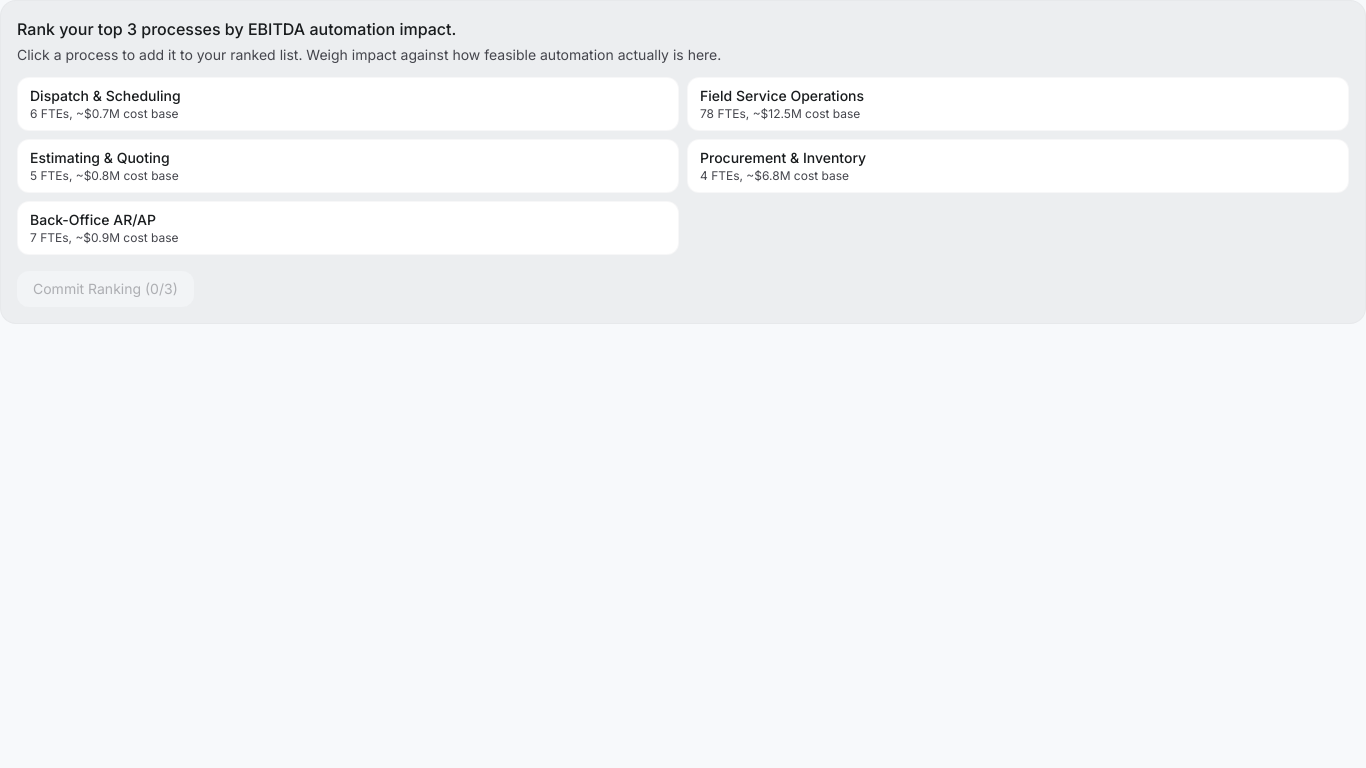
Test: RankingStage › explains missed picks via complexity notes and risks
Click the button "Estimating & Quoting 5 FTEs, ~$0.8M cost base": (100, 158) [17,139,679,193]
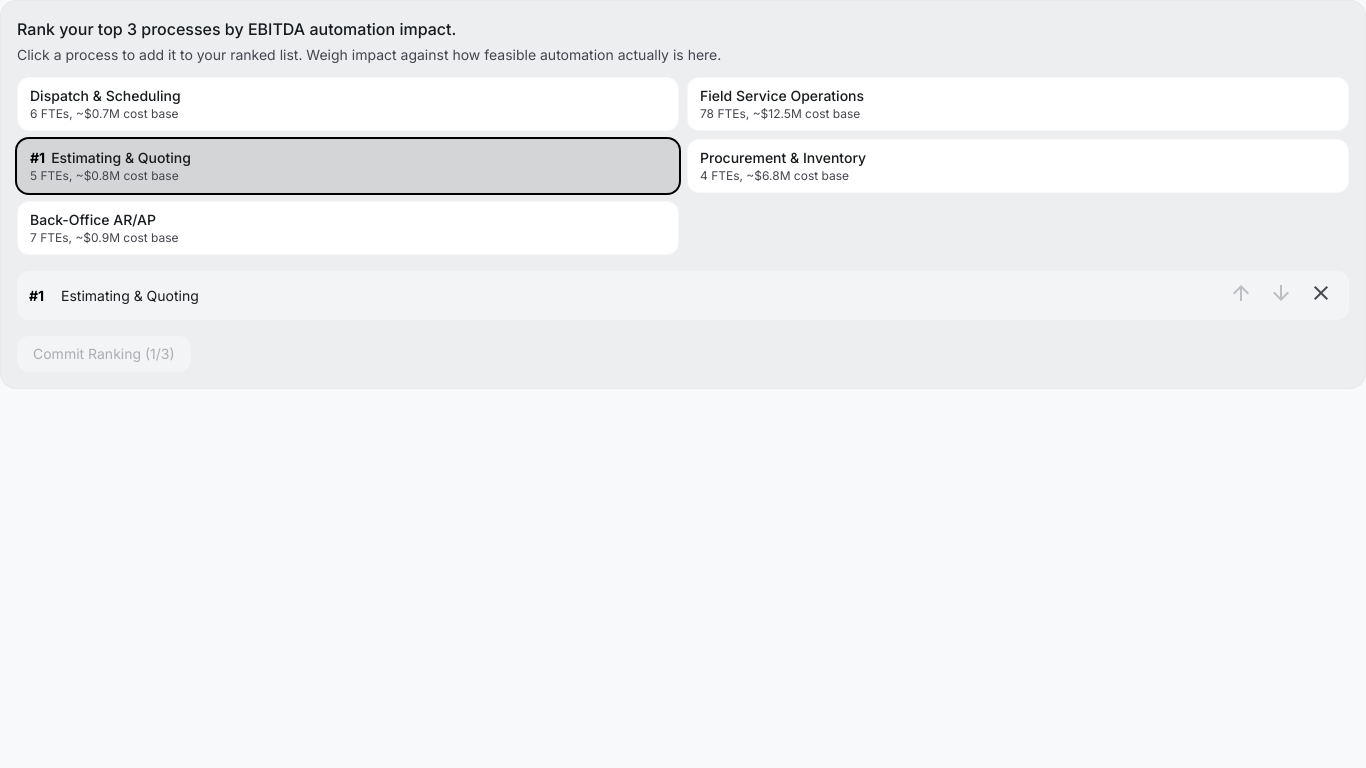
Click the button "Back-Office AR/AP 7 FTEs, ~$0.9M cost base": (93, 220) [17,201,679,255]
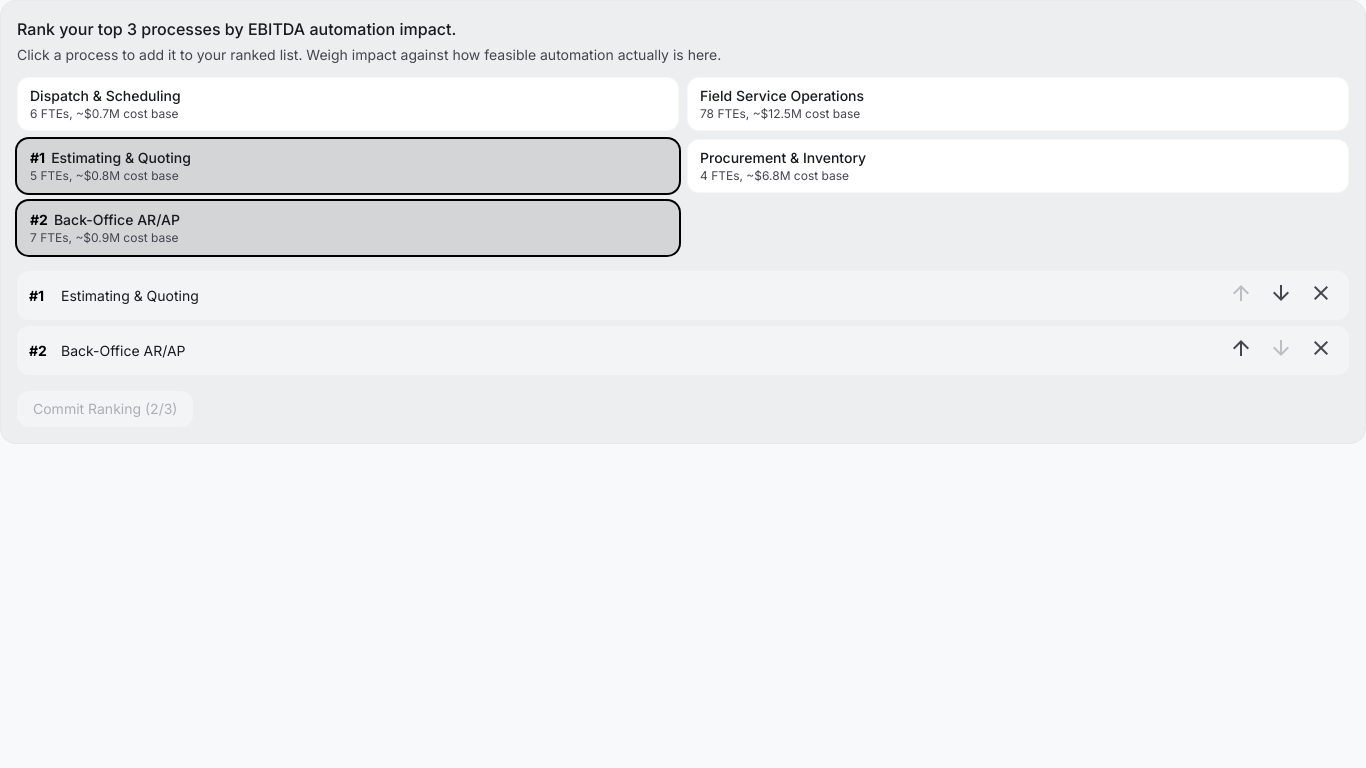
Click the button "Dispatch & Scheduling 6 FTEs, ~$0.7M cost base": (105, 96) [17,77,679,131]
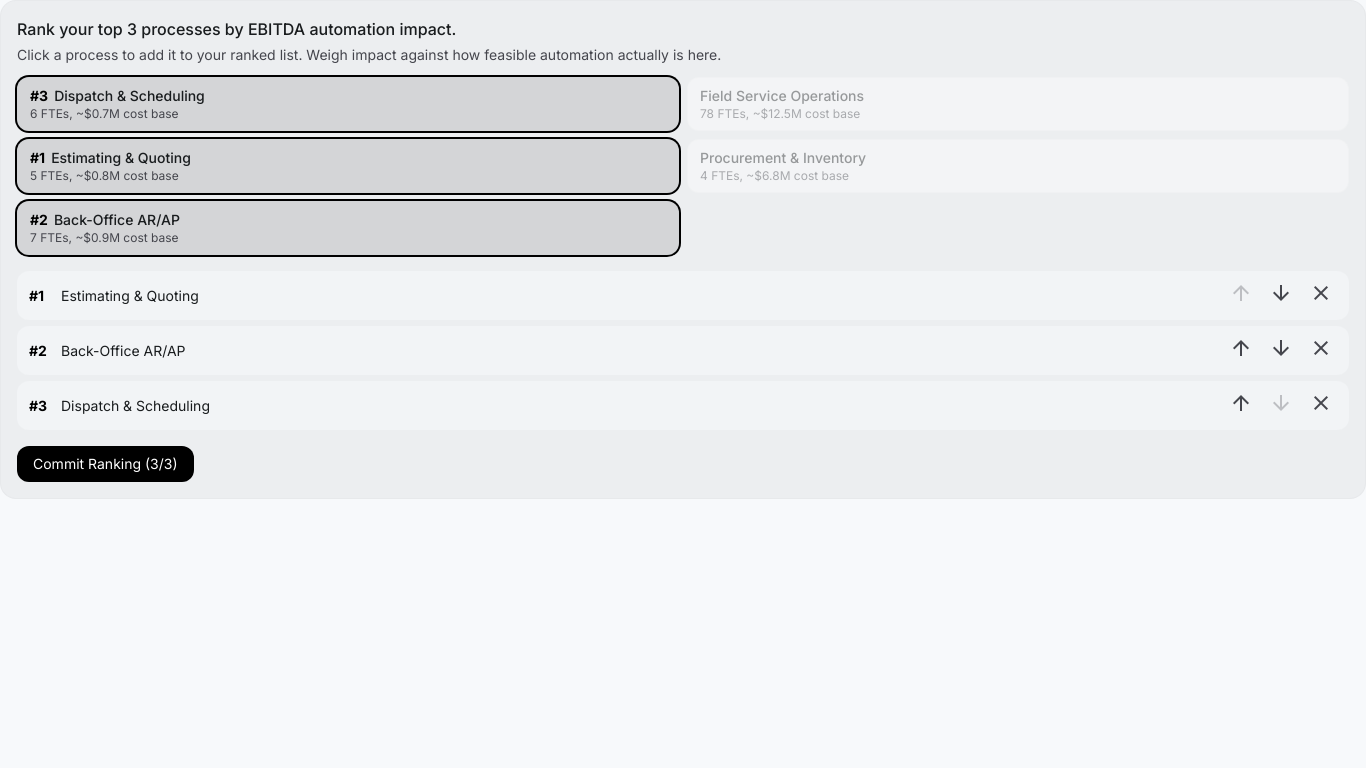
Click the button "Commit Ranking (3/3)": (105, 464) [17,446,194,482]
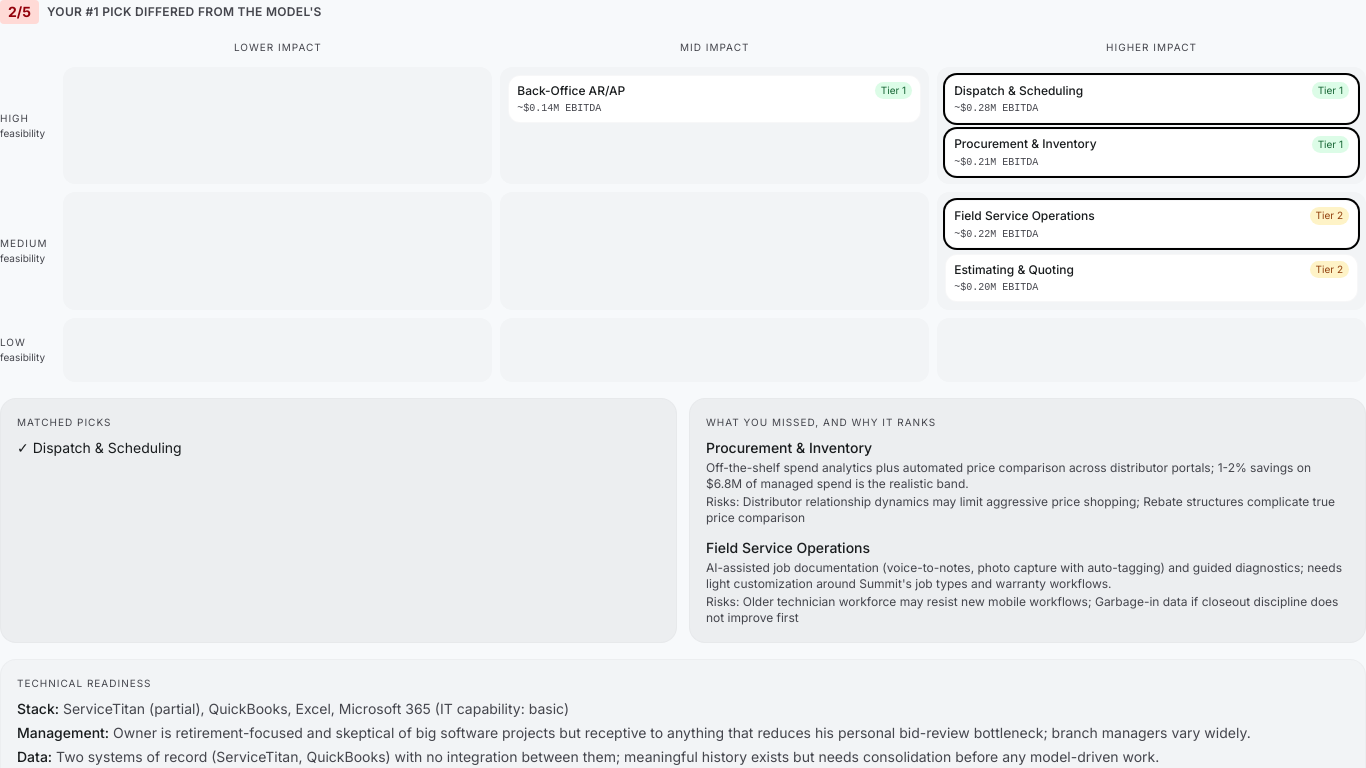
Now the text "Off-the-shelf spend analytics plus automated price comparison across distributor portals; 1-2% savings on $6.8M of manag" is shown, box [706,460,1311,491]
Now the text "AI-assisted job documentation (voice-to-notes, photo capture with auto-tagging) and guided diagnostics; needs light cust" is shown, box [706,560,1342,591]
